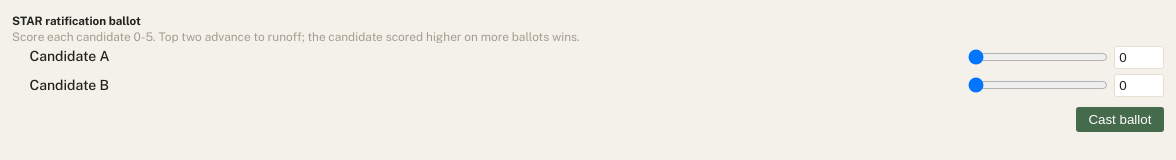
Scenario: StarRatificationBallot › keeps slider + number input in sync when one is changed via setScore
# Change the FIRST slider to 4 → number input for index 0 must follow.
Set the slider named "Score for Candidate A" to "4" at (1076, 57), box [968, 49, 1108, 65]
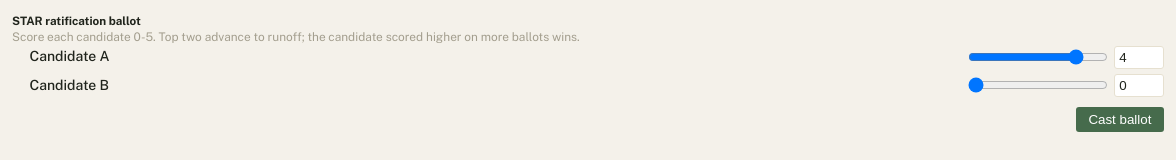
Expected: the slider named "Score for Candidate B" holds "0", [968, 77, 1108, 93]
Now the number field named "Score number for Candidate A" holds "4", box [1114, 46, 1164, 68]
# Now change the SECOND number input to 2 → slider for index 1 must follow.
Replace the text in the number field named "Score number for Candidate B" with "2" at (1139, 85), box [1114, 74, 1164, 97]
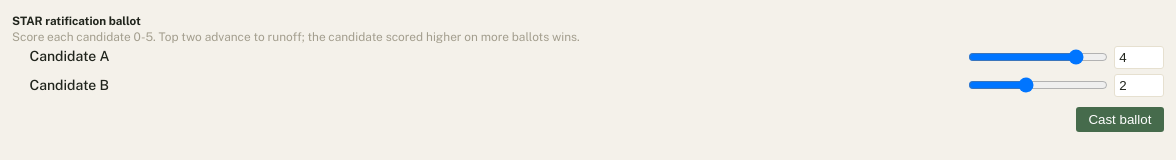
Now the number field named "Score number for Candidate A" holds "4", box [1114, 46, 1164, 68]
Now the slider named "Score for Candidate B" holds "2", box [968, 77, 1108, 93]
